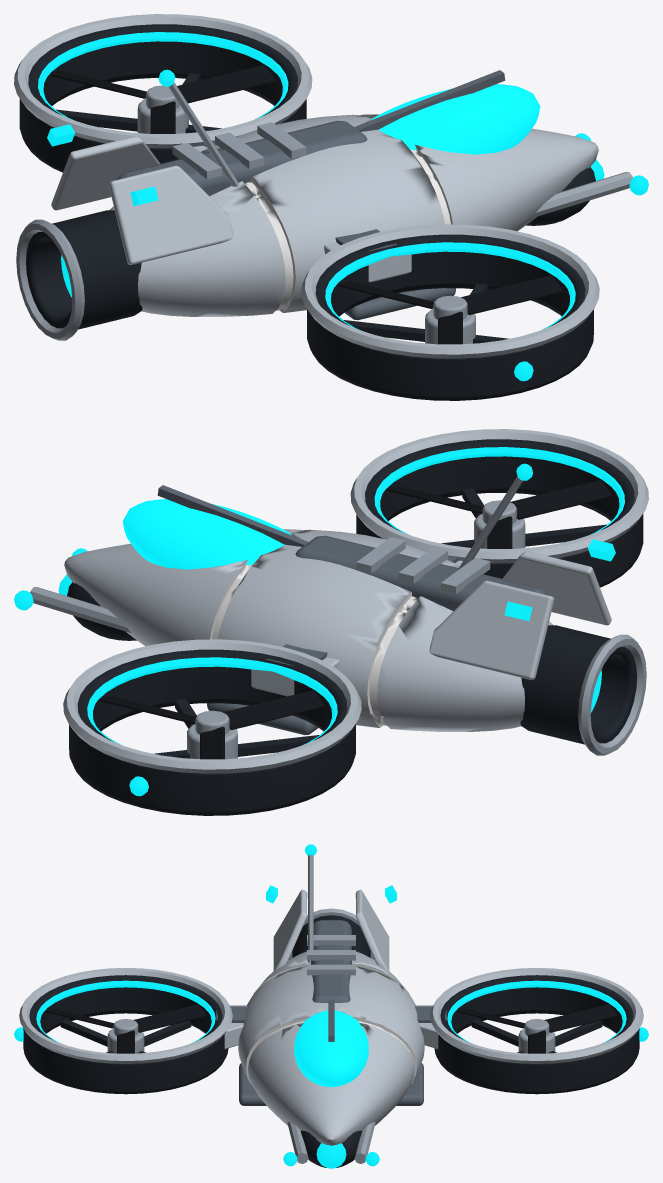
The model's file is scout.glb.
3 views of the same model, one above another, from view 1: azimuth 30°, elevation 25°; view 2: azimuth 150°, elevation 25°; view 3: azimuth 270°, elevation 25° (orthographic). The views are drawn at different scales.
Parts seen in each view (by area): view 1: Hull, RotorBlades_R, RotorBlades_L; view 2: Hull, RotorBlades_L, RotorBlades_R; view 3: Hull, RotorBlades_L, RotorBlades_R.
Boxes of the visible parts, left/top/right/bottom form: Hull: left=14, top=14, right=648, bottom=400; RotorBlades_R: left=338, top=275, right=562, bottom=344; RotorBlades_L: left=50, top=65, right=275, bottom=133; Hull: left=14, top=429, right=648, bottom=815; RotorBlades_L: left=100, top=690, right=324, bottom=759; RotorBlades_R: left=387, top=480, right=612, bottom=548; Hull: left=14, top=844, right=648, bottom=1168; RotorBlades_L: left=456, top=1004, right=617, bottom=1053; RotorBlades_R: left=45, top=1004, right=206, bottom=1053.
Bounding box in the file's own units: 2.3 × 0.978 × 3.09.
